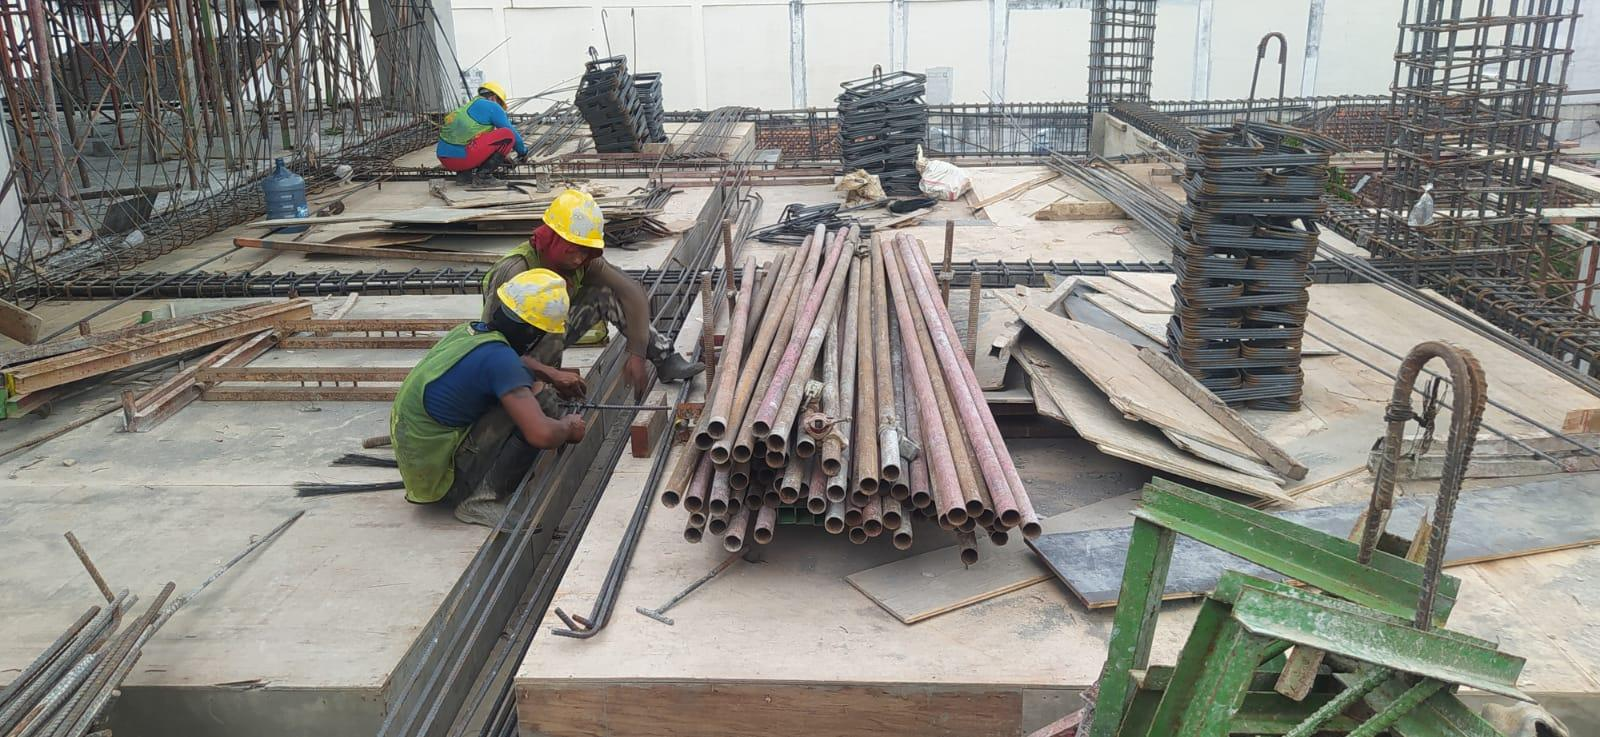hat: (497, 257, 587, 347), (541, 165, 624, 259), (463, 59, 529, 119)
vest: (382, 321, 507, 515), (465, 225, 567, 315), (431, 95, 511, 173)
